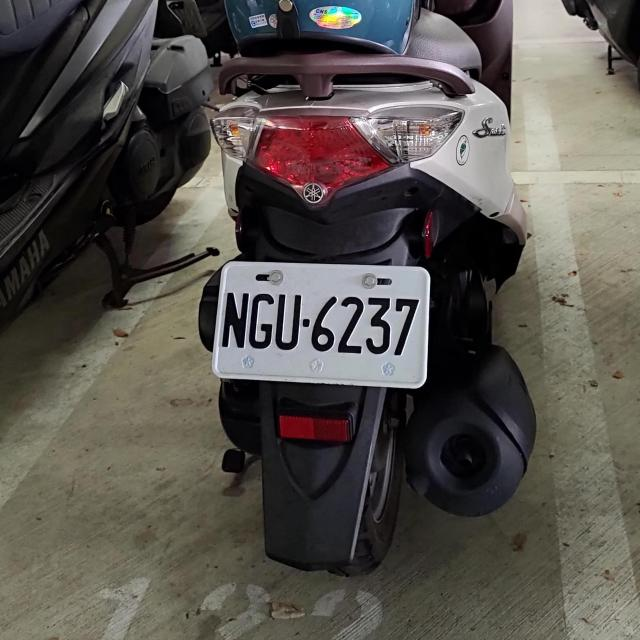W: (211, 259, 431, 388)
